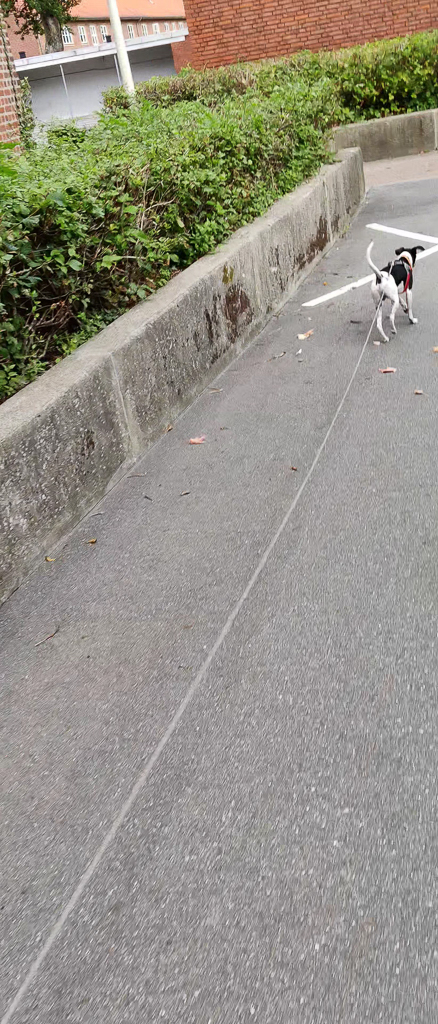Dog: (361, 234, 427, 351)
